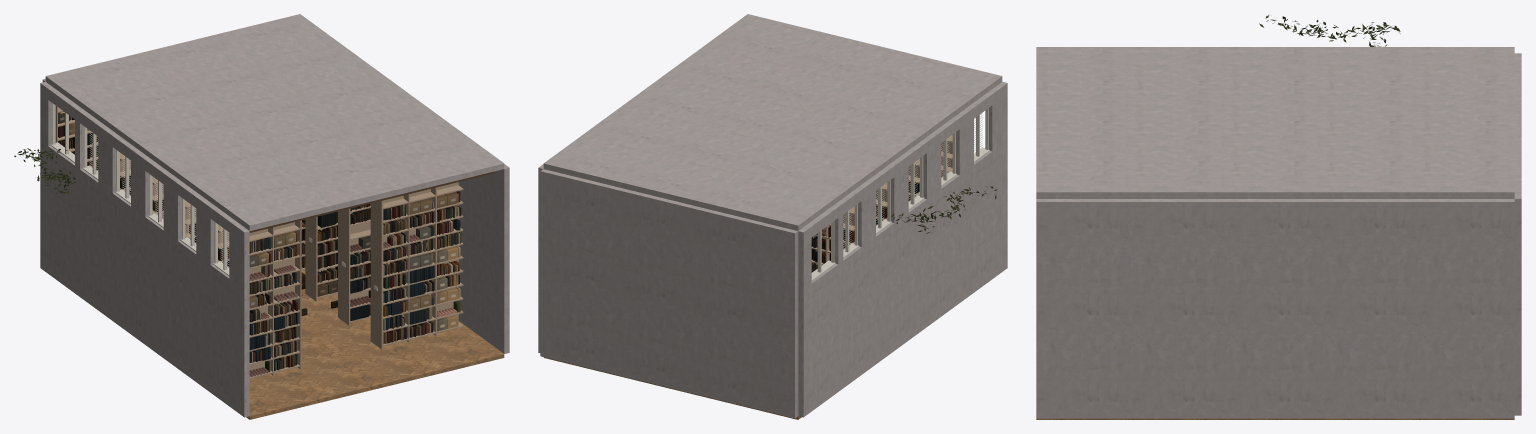
The model's file is archive.glb.
3 renders of one model, left to right at view 1: azimuth 30°, elevation 25°; view 2: azimuth 150°, elevation 25°; view 3: azimuth 270°, elevation 25°, orthographic. The views are drawn at different scales.
Parts seen in each view (by area): view 1: Archive_shell, Archive_books, Archive_decor; view 2: Archive_shell, Archive_books, Archive_decor; view 3: Archive_shell, Archive_decor.
Part boxes in pixels (<box>): Archive_shell: <box>40,14,509,419</box>; Archive_books: <box>58,111,461,376</box>; Archive_decor: <box>14,145,337,315</box>; Archive_shell: <box>538,14,1007,419</box>; Archive_books: <box>811,176,942,272</box>; Archive_decor: <box>891,186,997,233</box>; Archive_shell: <box>1036,47,1521,419</box>; Archive_decor: <box>1259,15,1400,46</box>.
Size of the model in its own units: 10.07 by 5.25 by 10.15.
46 materials, 17 textured.
